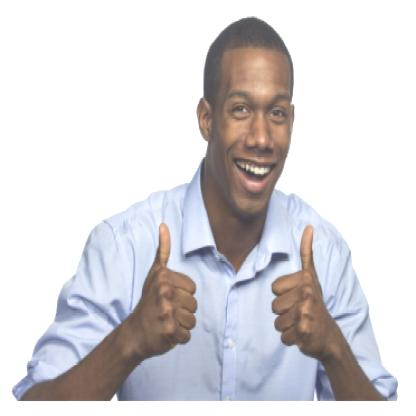Thumbs up: (149, 224, 202, 346)
